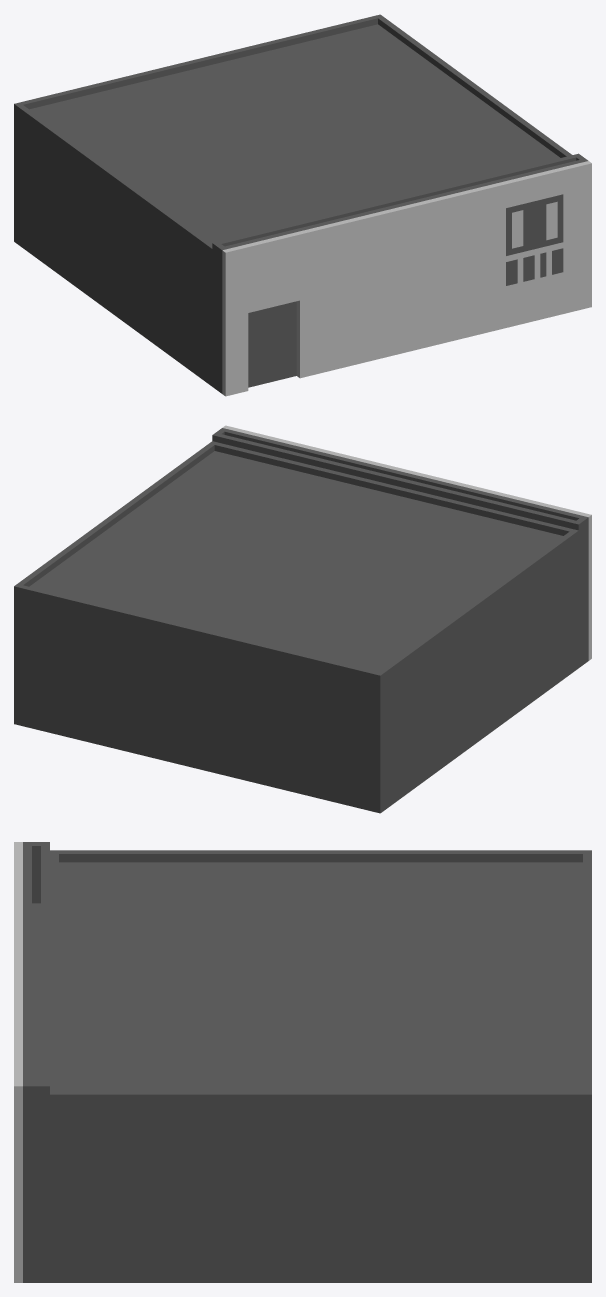
File: bld_store16a.obj
The picture shows the model from 3 angles, top to bottom: view 1: azimuth 30°, elevation 25°; view 2: azimuth 150°, elevation 25°; view 3: azimuth 270°, elevation 25°; orthographic projection. The views are drawn at different scales.
Bounding box in the file's own units: 64 × 24 × 64.
